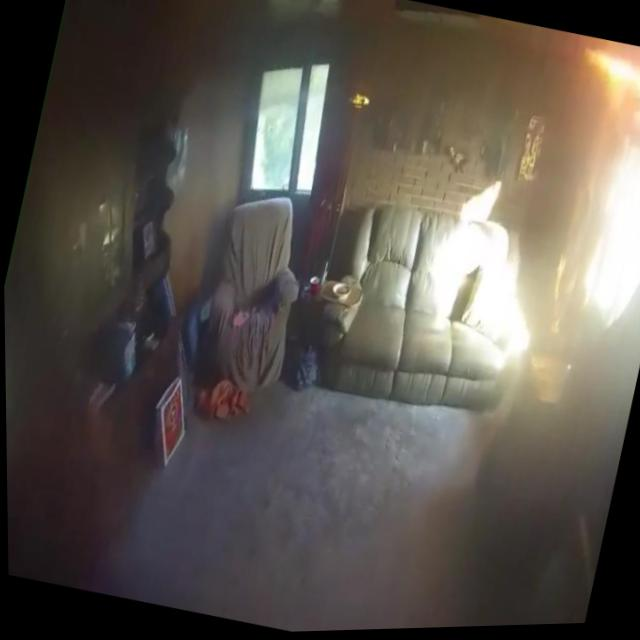fire: (526, 160, 608, 352), (565, 41, 640, 144)
